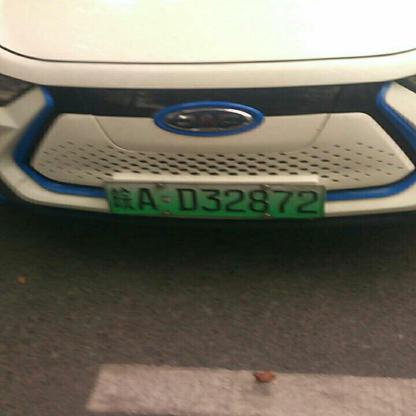lp: (104, 181, 322, 216)
